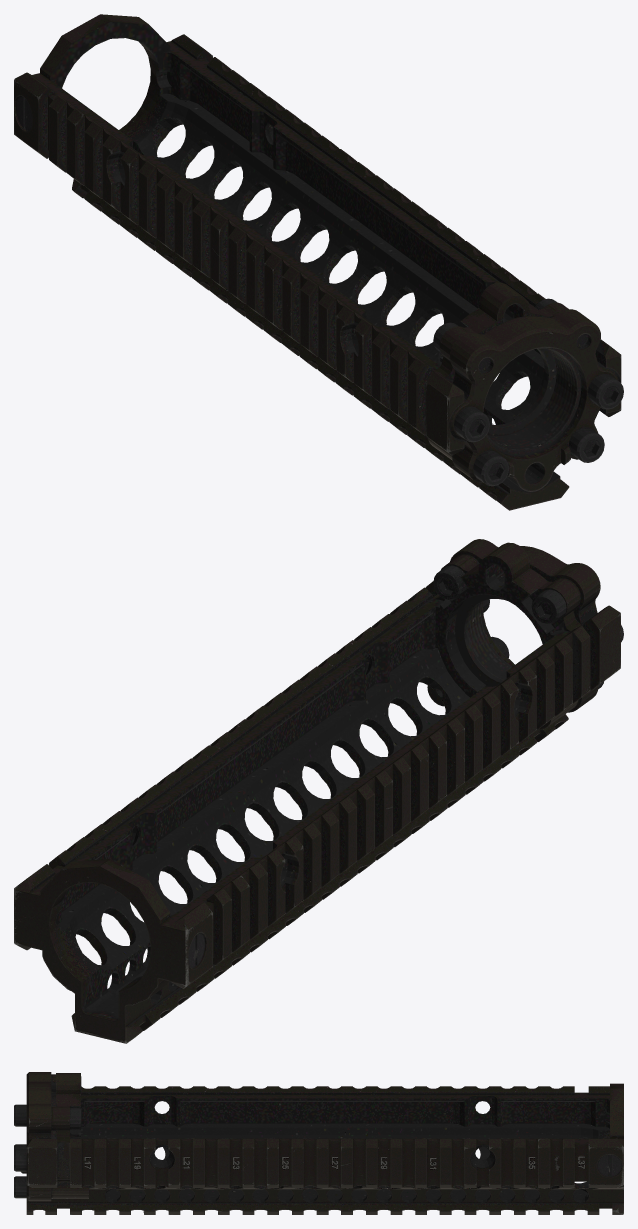
The picture shows the model from 3 angles, top to bottom: view 1: azimuth 30°, elevation 25°; view 2: azimuth 150°, elevation 25°; view 3: azimuth 270°, elevation 25°; orthographic projection. The views are drawn at different scales.
Visible parts, largest first — view 1: TW_55f84c3c4bdc2d5f408b4576_PZ_Import; view 2: TW_55f84c3c4bdc2d5f408b4576_PZ_Import; view 3: TW_55f84c3c4bdc2d5f408b4576_PZ_Import.
Part boxes in pixels (bbox=[...]): TW_55f84c3c4bdc2d5f408b4576_PZ_Import: bbox=[14, 14, 623, 510]; TW_55f84c3c4bdc2d5f408b4576_PZ_Import: bbox=[14, 539, 623, 1043]; TW_55f84c3c4bdc2d5f408b4576_PZ_Import: bbox=[14, 1072, 623, 1214].
Size of the model in its own units: 0.0316 by 0.1393 by 0.0333.
Materials: 1 (1 with a texture image).
